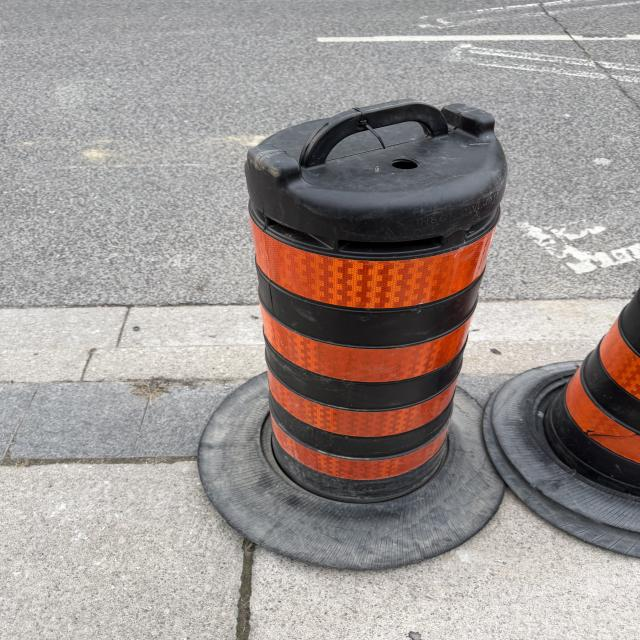Teraffic Barrel: (199, 101, 506, 568), (484, 291, 640, 557)
